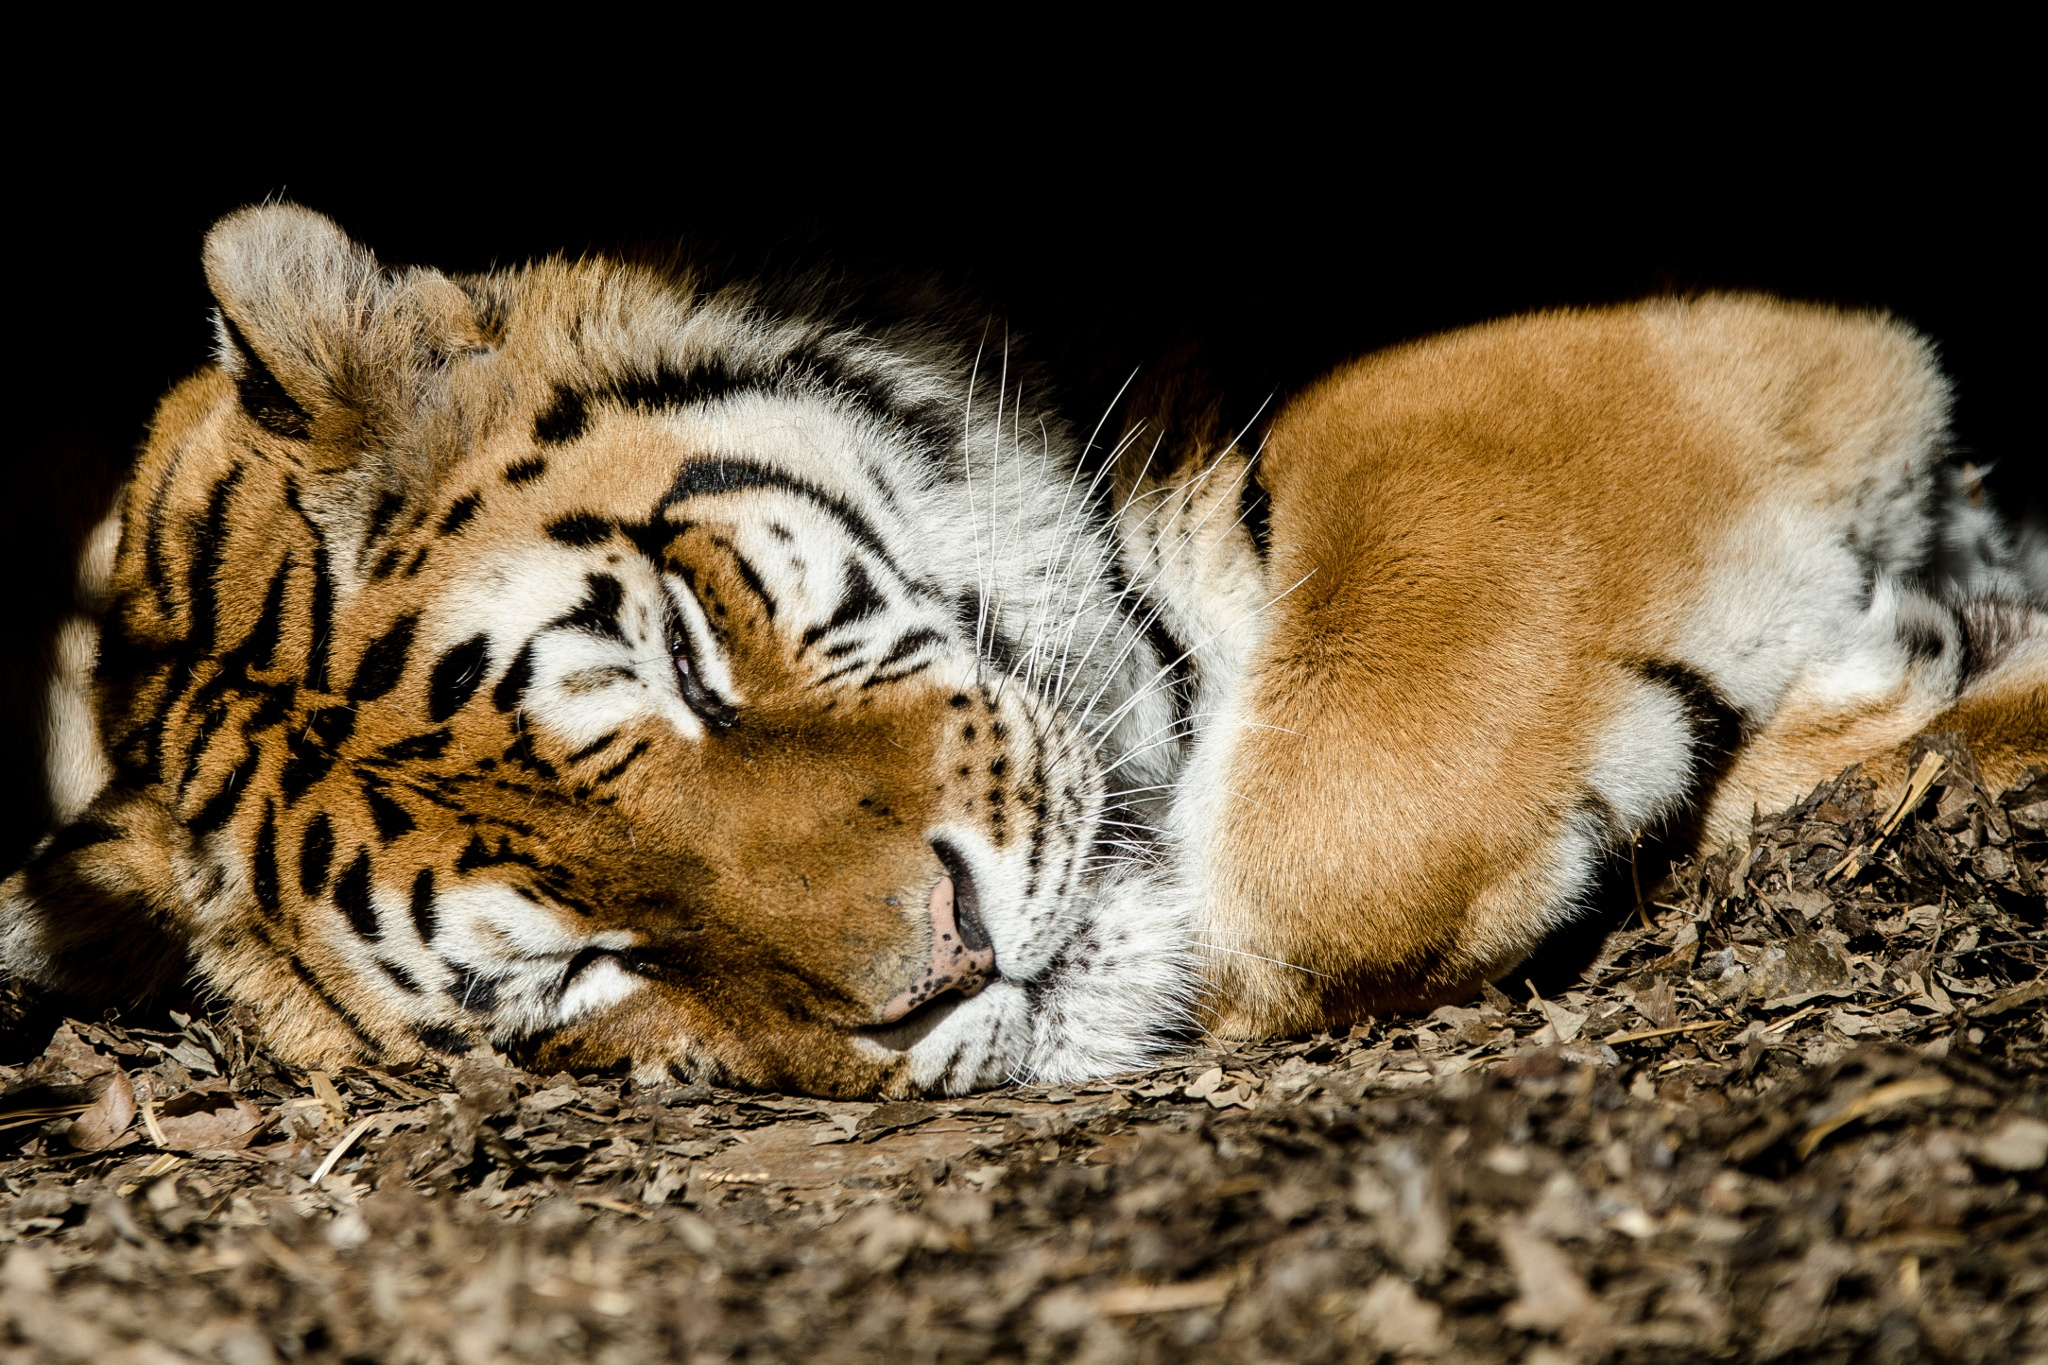tiger: (105, 204, 1928, 1072)
